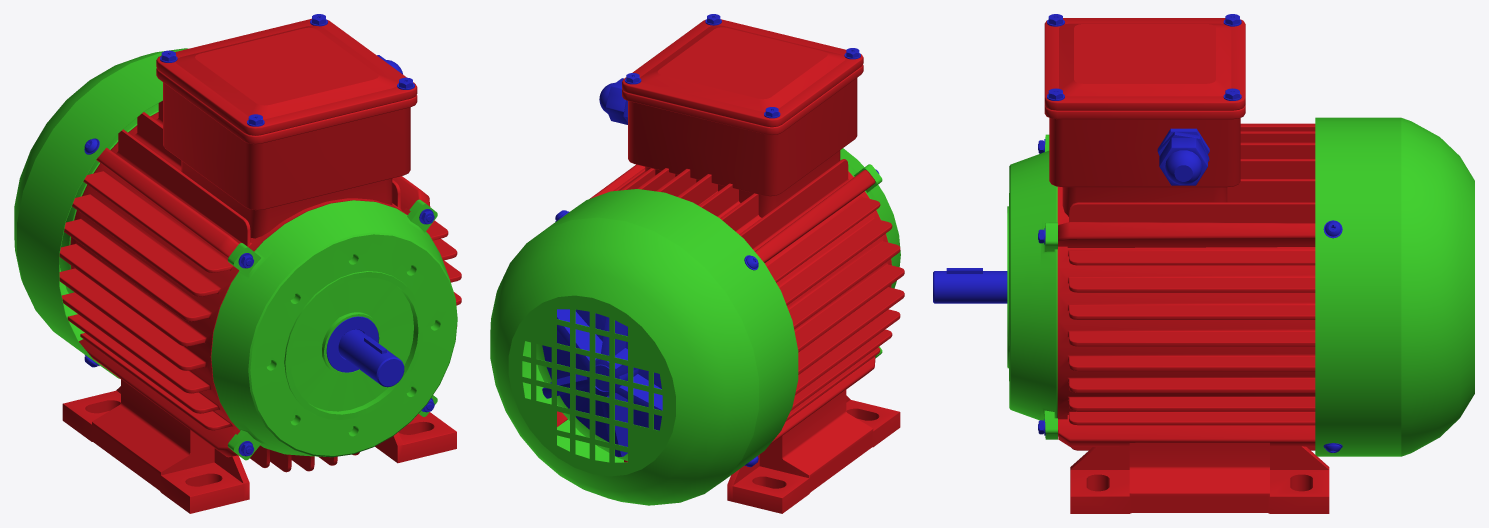
File: electric-motor.dae
The picture shows the model from 3 angles, left to right: view 1: azimuth 30°, elevation 25°; view 2: azimuth 150°, elevation 25°; view 3: azimuth 270°, elevation 25°; orthographic projection. The views are drawn at different scales.
Visible parts, largest first — view 1: body, closingPart, parts; view 2: closingPart, body, parts; view 3: body, closingPart, parts.
Part boxes in pixels (x1,y1,x2,y2): body: (59, 18, 461, 513); closingPart: (14, 48, 457, 460); parts: (84, 14, 434, 456); closingPart: (490, 148, 900, 505); body: (557, 19, 904, 513); parts: (542, 14, 879, 467); body: (1044, 18, 1329, 513); closingPart: (1007, 117, 1474, 456); parts: (933, 14, 1342, 452).
Size of the model in its own units: 1.25 by 1.6 by 2.
